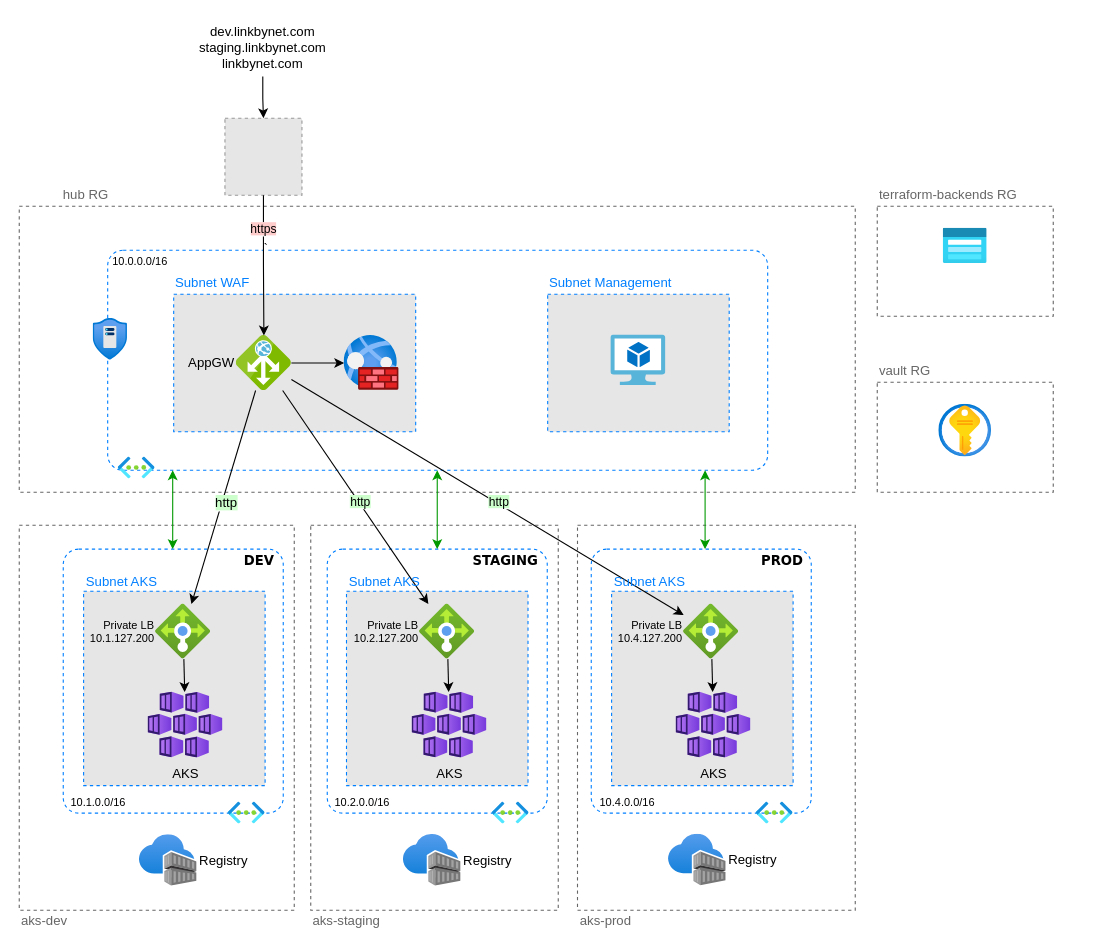
This 1117x950 diagram has some shape labels left out. Grey dashed boxes stand in for pictures. Each missing label, with the box of its shape:
bastion: (610, 334, 665, 385)
DDOS Protection: (93, 318, 127, 360)
Key Vault: (938, 404, 991, 457)
terraform1612822914: (943, 228, 987, 263)
WAF: (344, 335, 399, 390)
